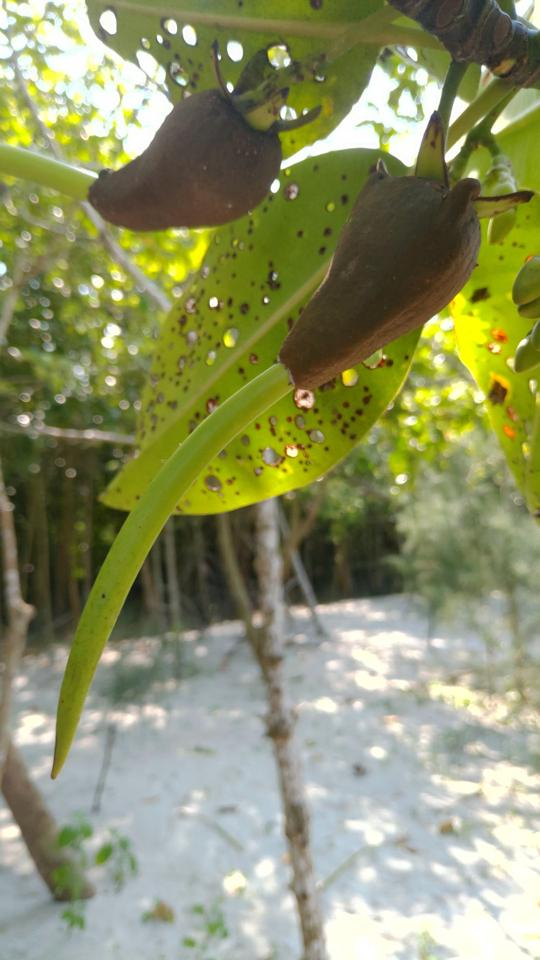mentah: (22, 93, 533, 799)
